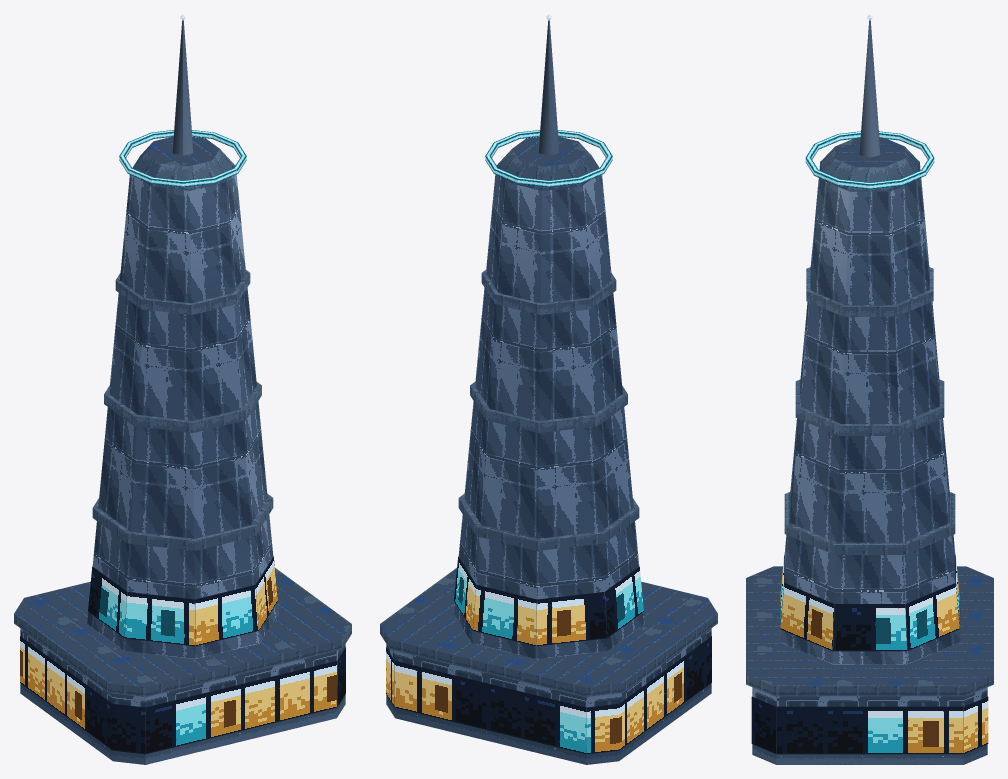
The model's file is cytower.needle.glb.
3 renders of one model, left to right at view 1: azimuth 30°, elevation 25°; view 2: azimuth 150°, elevation 25°; view 3: azimuth 270°, elevation 25°, orthographic.
Visible parts, largest first — view 1: kit_tower, kit_card_windows, kit_crown; view 2: kit_tower, kit_card_windows, kit_crown; view 3: kit_tower, kit_card_windows, kit_crown.
Part boxes in pixels (bbox=[...]): kit_tower: bbox=[14, 136, 351, 764]; kit_card_windows: bbox=[20, 556, 345, 754]; kit_crown: bbox=[119, 14, 246, 187]; kit_tower: bbox=[380, 136, 717, 764]; kit_card_windows: bbox=[386, 556, 711, 754]; kit_crown: bbox=[485, 14, 612, 187]; kit_tower: bbox=[746, 138, 993, 764]; kit_card_windows: bbox=[751, 555, 988, 754]; kit_crown: bbox=[805, 14, 934, 189].
Size of the model in its own units: 14.1 by 37.99 by 12.3.
7 materials, 6 textured.
